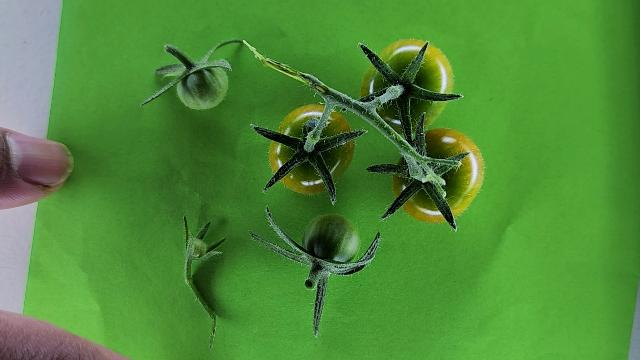Fruit Bud: (184, 217, 227, 263), (189, 238, 207, 259)
Fruit Maturation: (301, 213, 362, 265), (172, 55, 227, 108)
Fully Grown: (360, 38, 455, 130), (392, 127, 484, 222), (272, 105, 356, 195)
